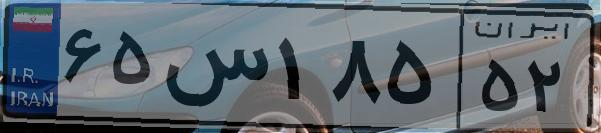1: (270, 28, 330, 110)
2: (525, 38, 570, 115)
5: (385, 28, 445, 110), (475, 38, 525, 113), (110, 28, 158, 98)
6: (57, 26, 110, 100)
8: (330, 28, 385, 110)
س: (158, 20, 270, 120)
